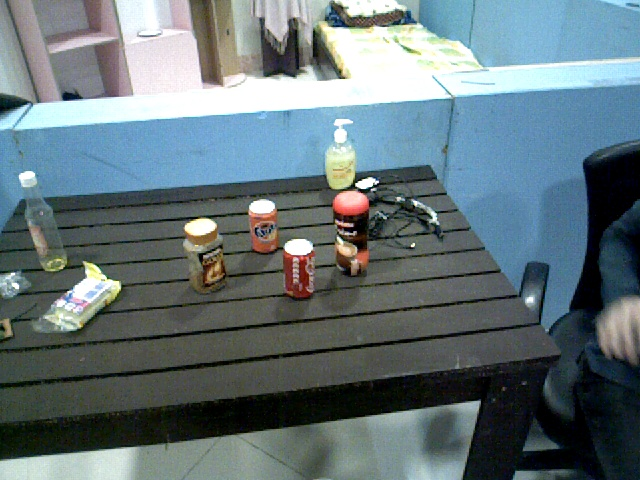coca: (282, 238, 314, 300)
coffee: (182, 220, 229, 296)
cream: (332, 192, 372, 277)
fanta: (248, 200, 280, 252)
